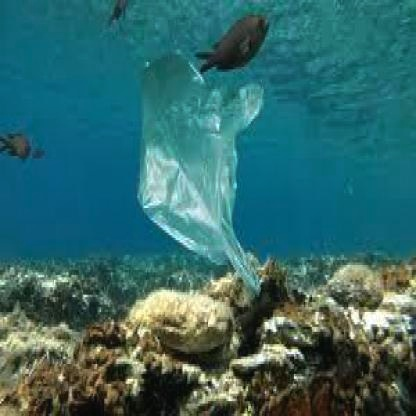pbag: (136, 49, 263, 294)
